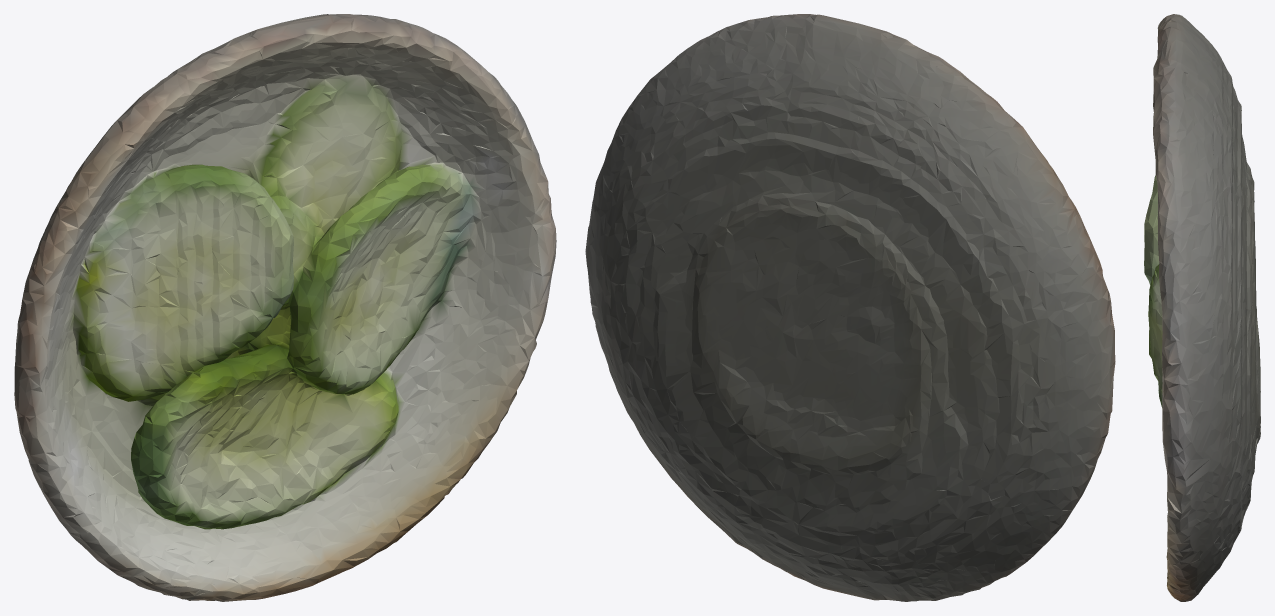
The model's file is plate_1.glb.
3 views of the same model, side by side, from view 1: azimuth 30°, elevation 25°; view 2: azimuth 150°, elevation 25°; view 3: azimuth 270°, elevation 25° (orthographic). The views are drawn at different scales.
Visible parts, largest first — view 1: geometry_0; view 2: geometry_0; view 3: geometry_0.
Part boxes in pixels (x1=…): geometry_0: x1=14, y1=14, x2=556, y2=601; geometry_0: x1=585, y1=14, x2=1115, y2=601; geometry_0: x1=1144, y1=14, x2=1260, y2=601.
Bounding box in the file's own units: 0.976 × 1 × 0.1985.
